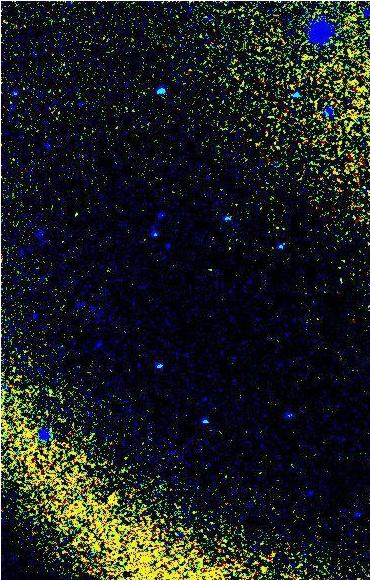star: (94, 487, 124, 517)
